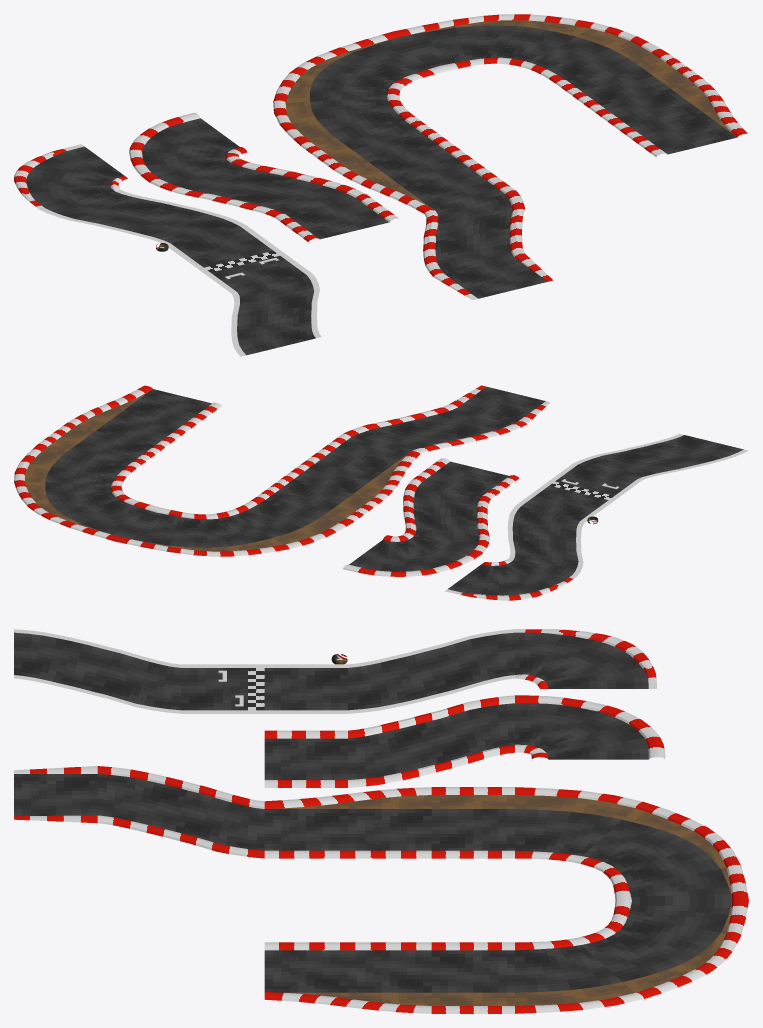
File: KartTrackPieces.fbx
The picture shows the model from 3 angles, top to bottom: view 1: azimuth 30°, elevation 25°; view 2: azimuth 150°, elevation 25°; view 3: azimuth 270°, elevation 25°; orthographic projection. The views are drawn at different scales.
Parts seen in each view (by area): view 1: racetrack_curve_fast2, racetrack_curve_fast, racetrack_fast_to_straight, racetrack_fast_to_straight2, racetrack_halfbend, racetrack_halfbend2, track_halfbend, track_halfbend2, racetrack_straight_fast, racetrack_straight_fast2, racetrack_halfstraight, racetrack_to_track_conversion (+6 smaller); view 2: racetrack_curve_fast, racetrack_curve_fast2, racetrack_fast_to_straight2, racetrack_fast_to_straight, racetrack_halfbend2, racetrack_halfbend, track_halfbend2, track_halfbend, racetrack_straight_fast2, racetrack_straight_fast, racetrack_halfstraight, racetrack_to_track_conversion (+6 smaller); view 3: racetrack_curve_fast2, racetrack_curve_fast, racetrack_fast_to_straight2, racetrack_fast_to_straight, racetrack_halfbend2, racetrack_halfbend, track_halfbend, track_halfbend2, racetrack_straight_fast, racetrack_straight_fast2, racetrack_halfstraight, racetrack_to_track_conversion (+6 smaller).
Part boxes in pixels (x1,y1,x2,y2): racetrack_curve_fast2: (393,14,669,83); racetrack_curve_fast: (273,31,445,145); racetrack_fast_to_straight: (334,141,515,213); racetrack_fast_to_straight2: (589,79,747,156); racetrack_halfbend: (150,159,365,217); racetrack_halfbend2: (423,190,525,276); track_halfbend: (40,190,245,243); track_halfbend2: (231,274,321,356); racetrack_straight_fast: (301,116,448,170); racetrack_straight_fast2: (556,54,703,107); racetrack_halfstraight: (275,194,399,241); racetrack_to_track_conversion: (433,253,553,299); racetrack_curve_fast: (116,497,354,556); racetrack_curve_fast2: (14,443,160,541); racetrack_fast_to_straight2: (68,385,221,447); racetrack_fast_to_straight: (285,434,420,500); racetrack_halfbend2: (343,404,526,453); racetrack_halfbend: (403,479,490,552); track_halfbend2: (573,433,748,480); track_halfbend: (507,505,584,575); racetrack_straight_fast2: (39,422,164,468); racetrack_straight_fast: (257,476,382,521); racetrack_halfstraight: (413,458,519,498); racetrack_to_track_conversion: (449,385,550,424); racetrack_curve_fast2: (515,898,748,1013); racetrack_curve_fast: (515,787,748,900); racetrack_fast_to_straight2: (264,942,431,1013); racetrack_fast_to_straight: (264,787,431,858); racetrack_halfbend2: (97,766,264,858); racetrack_halfbend: (348,695,514,787); track_halfbend: (348,629,514,713); track_halfbend2: (14,629,180,713); racetrack_straight_fast: (431,787,514,858); racetrack_straight_fast2: (431,942,514,1013); racetrack_halfstraight: (264,730,347,787); racetrack_to_track_conversion: (14,766,97,823).
Size of the model in its own units: 54.5 by 0.3834 by 44.
